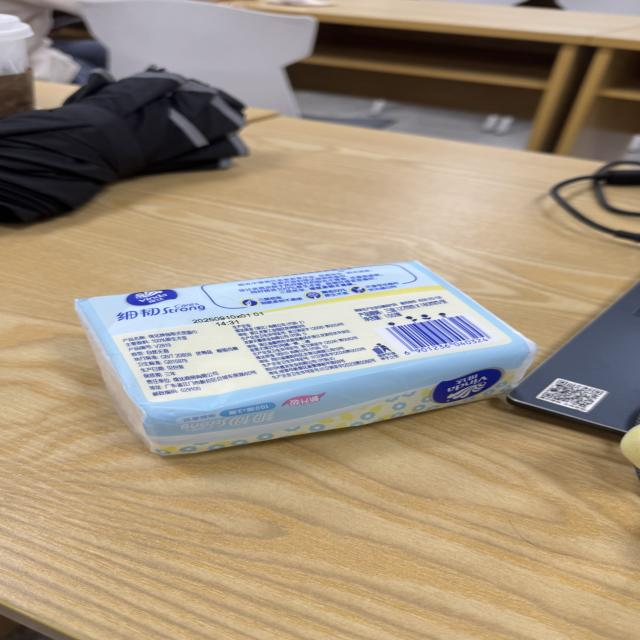tissue: (77, 262, 536, 454)
